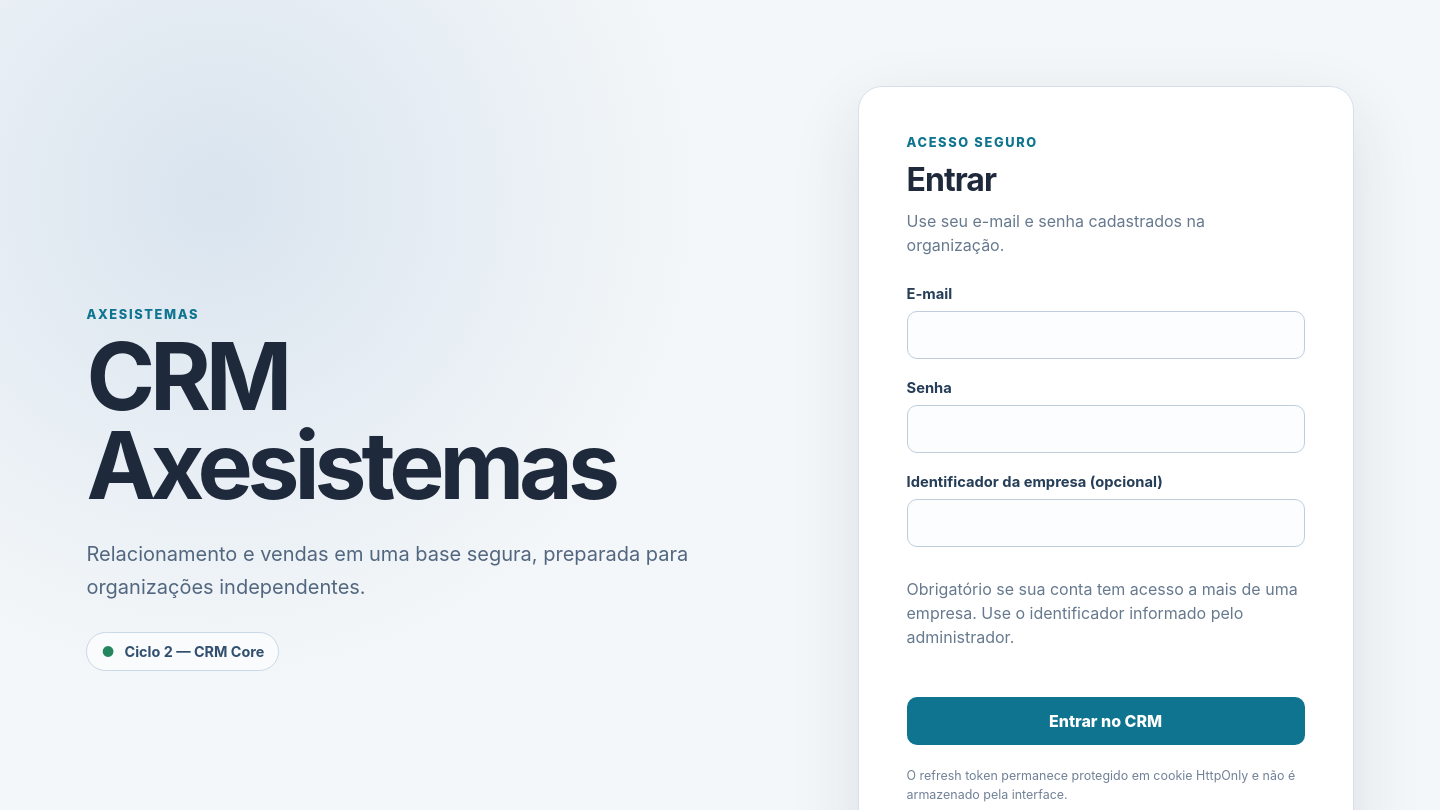
Test case: C4.3.3 tickets navigation › opens the tickets catalog when the session has ticket.read
This screenshot has width=1440, height=810.
In the field labelled "E-mail": point(1106, 335) top-left (906, 311), bottom-right (1305, 359), type "seller@axes.test"
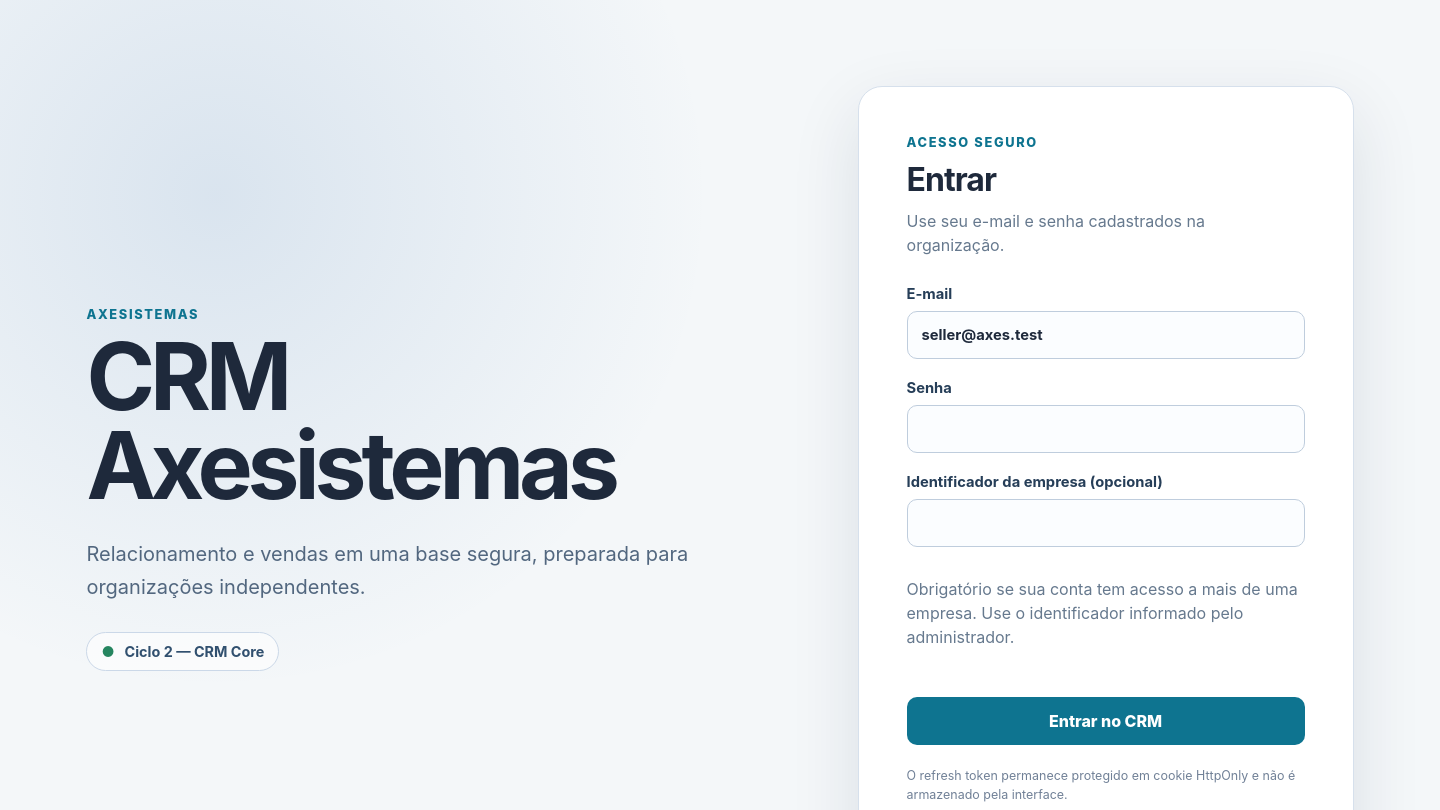
In the password field labelled "Senha": point(1106, 429) top-left (906, 405), bottom-right (1305, 453), type "example-password"
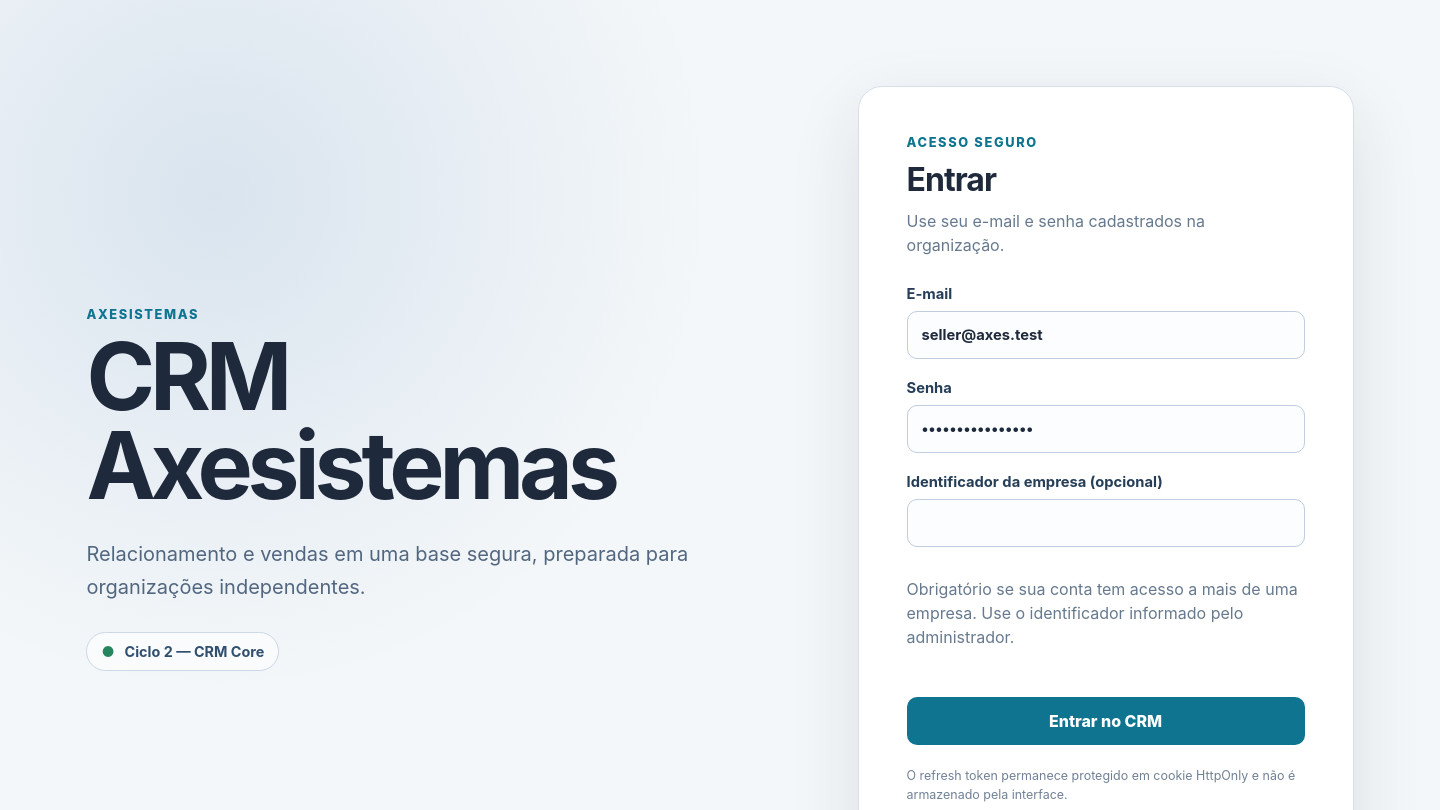
Click the button "Entrar no CRM": point(1106, 721) top-left (906, 697), bottom-right (1305, 745)
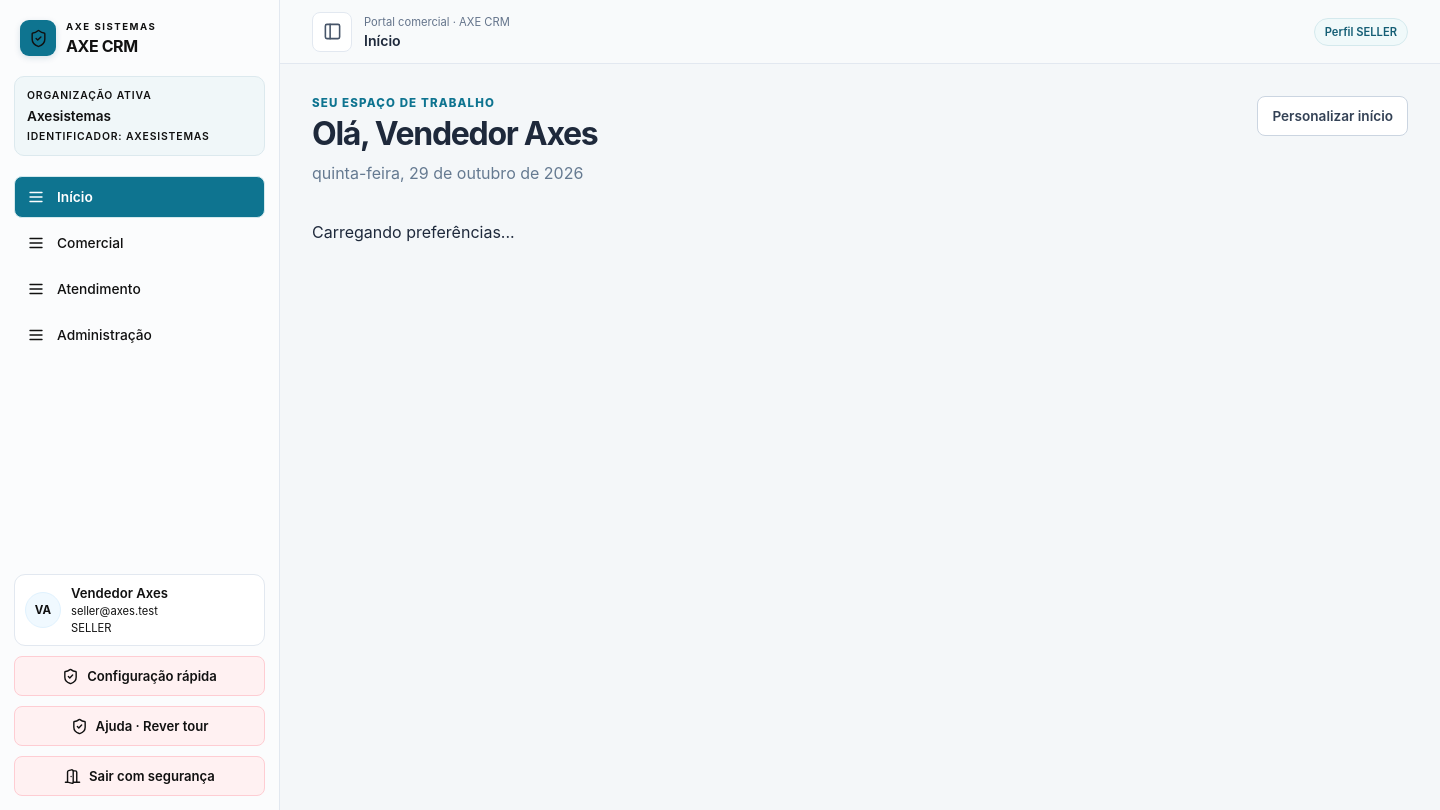
Expected: the text "Axesistemas" is shown, top-left (27, 108), bottom-right (111, 124)
Click the button "Atendimento": point(140, 289) top-left (14, 268), bottom-right (265, 310)
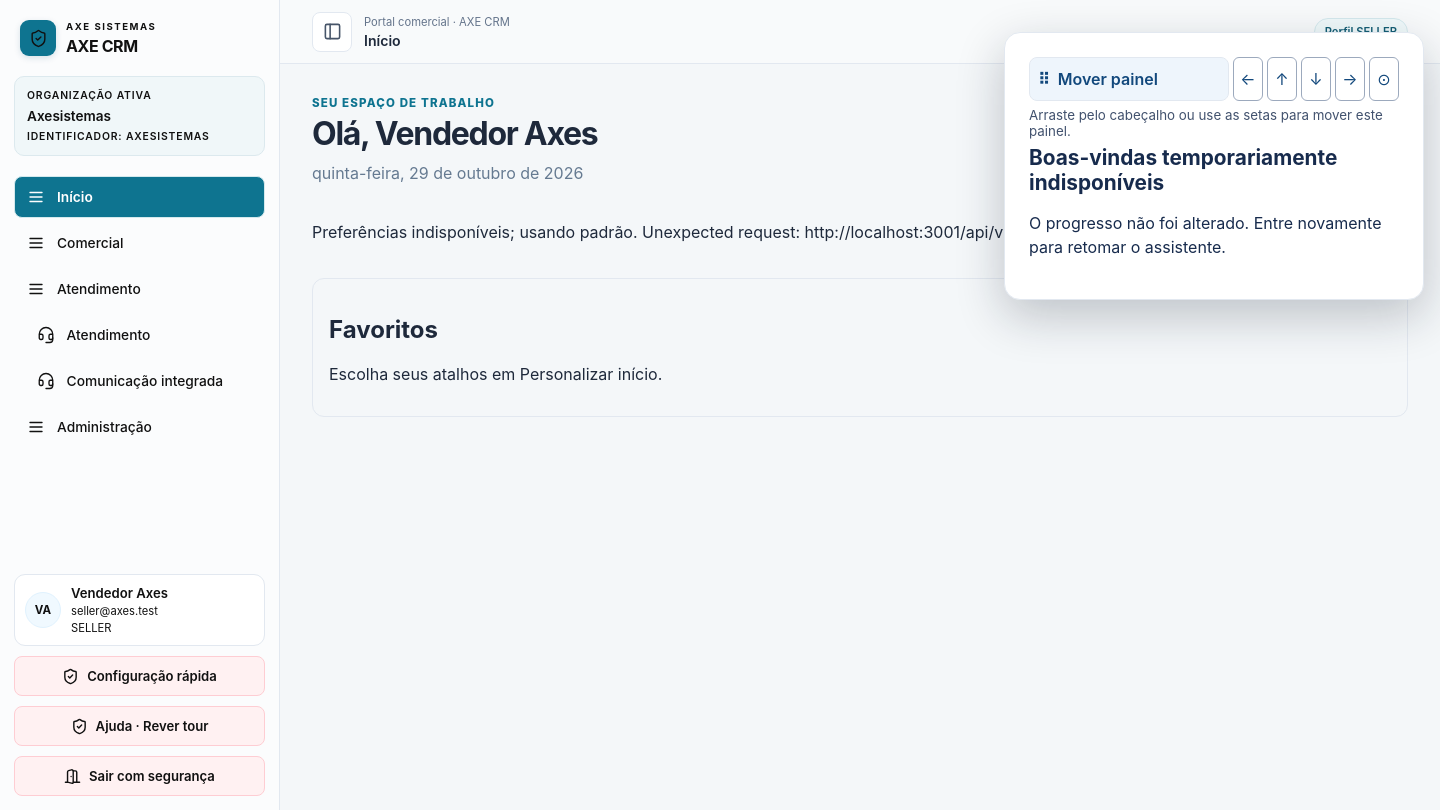
Click the 2nd button "Atendimento": point(144, 335) top-left (24, 314), bottom-right (265, 356)
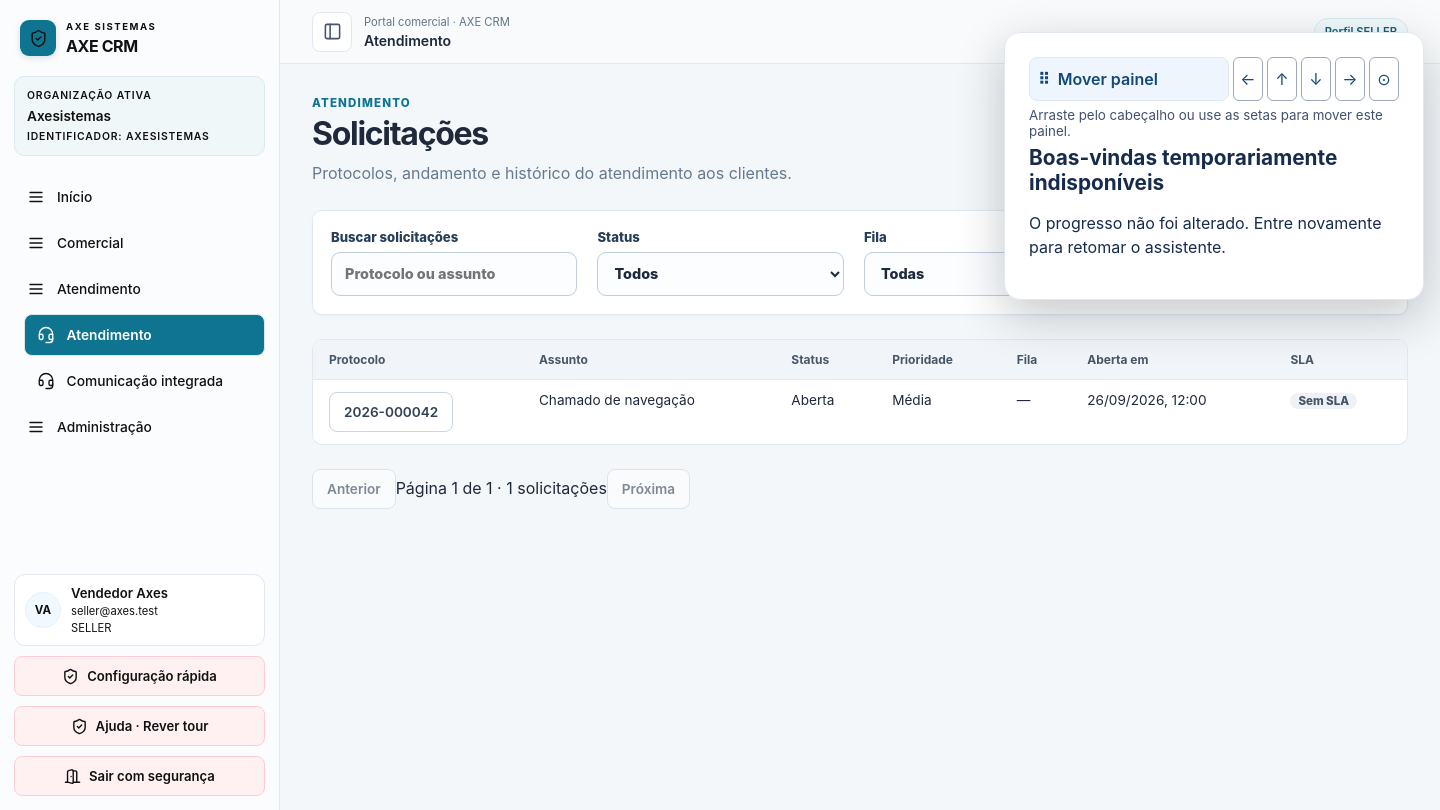
Now the heading "Solicitações" is shown, box top-left (312, 114), bottom-right (488, 153)
Now the text "Chamado de navegação" is shown, box top-left (523, 379), bottom-right (775, 444)
